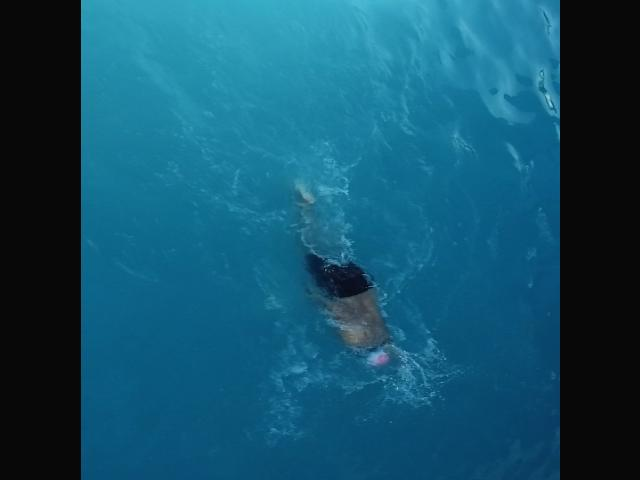swimming: (288, 186, 397, 377)
